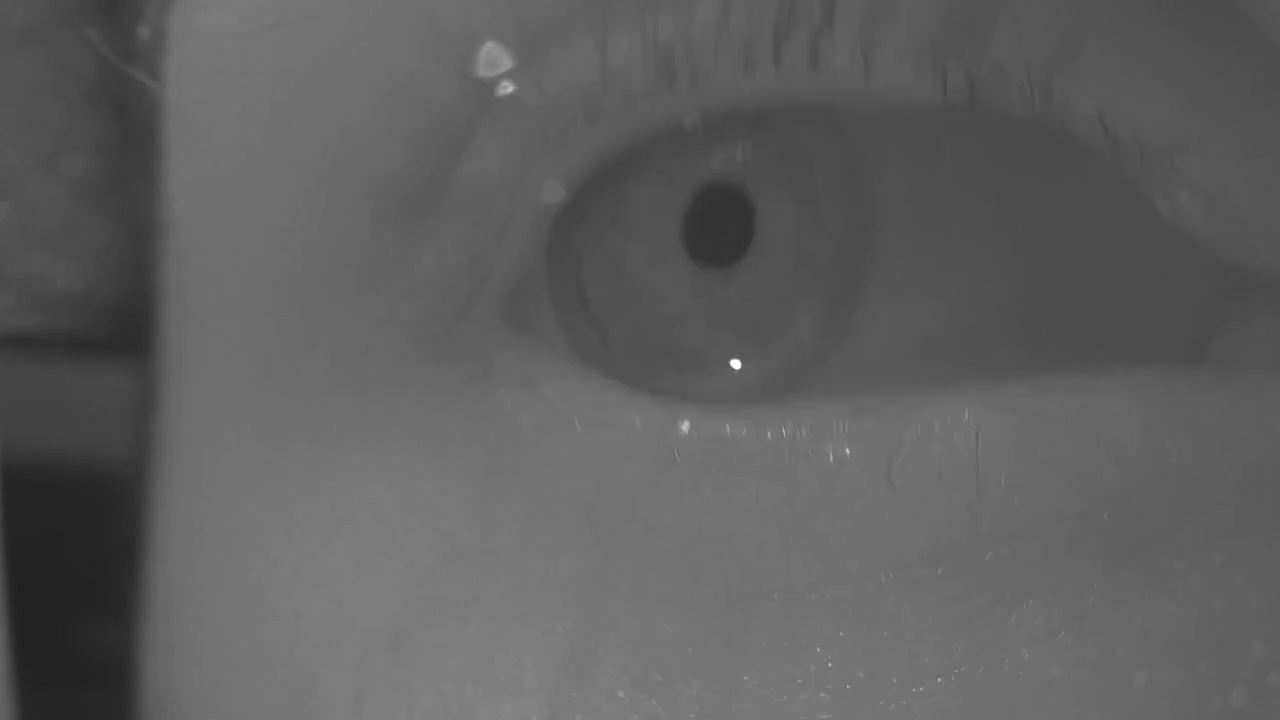pupil: (678, 179, 755, 268)
